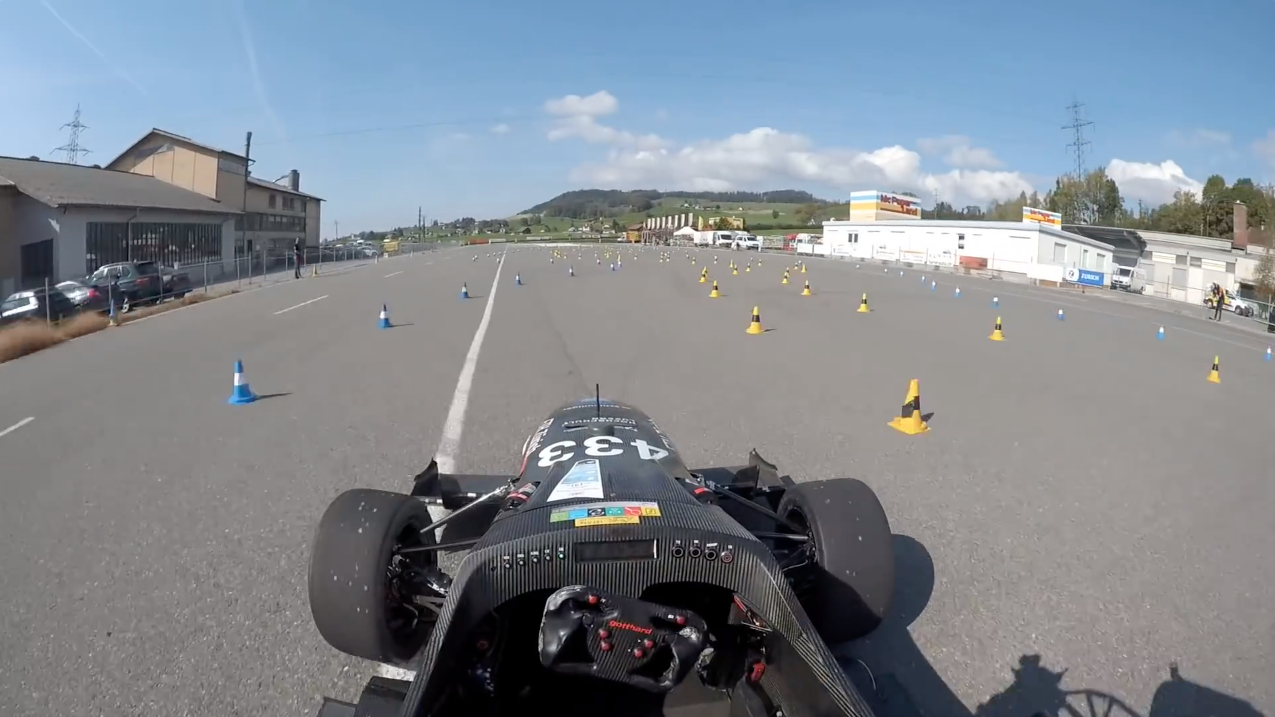lcone: (221, 356, 260, 410), (375, 301, 396, 331), (458, 279, 473, 301)
rcone: (886, 376, 933, 438), (742, 303, 769, 337), (988, 314, 1008, 344), (856, 290, 872, 315), (708, 278, 723, 301)
